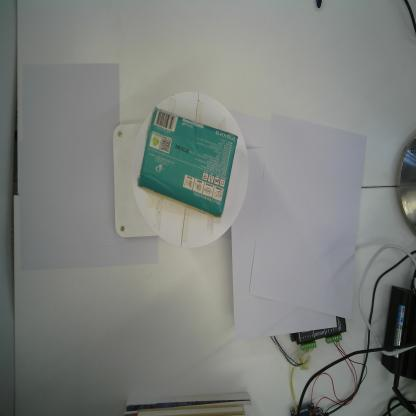Tissue: (136, 107, 239, 218)
